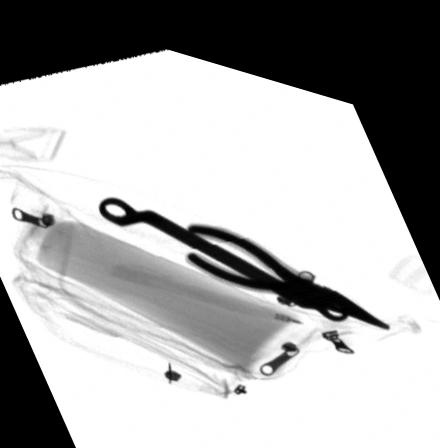Pliers: (187, 211, 392, 308)
Wrench: (96, 191, 354, 301)
